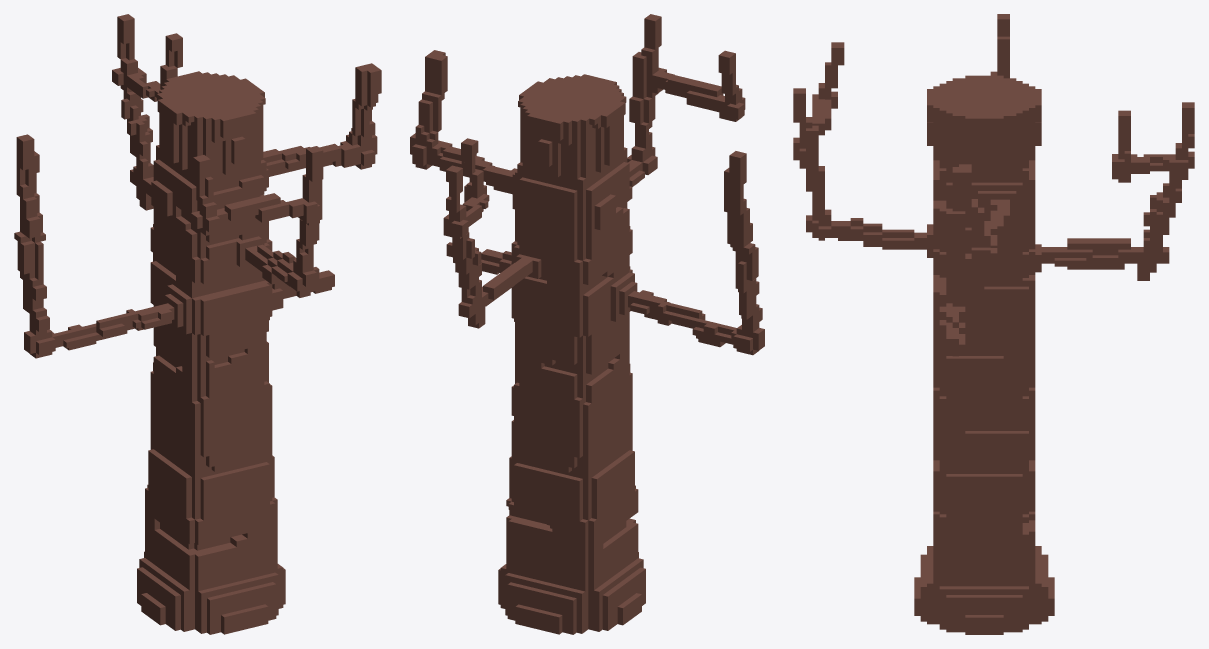
The model's file is nat_trunk.obj.
The picture shows the model from 3 angles, left to right: view 1: azimuth 30°, elevation 25°; view 2: azimuth 150°, elevation 25°; view 3: azimuth 270°, elevation 25°; orthographic projection.
Bounding box in the file's own units: 0.665 × 0.95 × 0.665.
